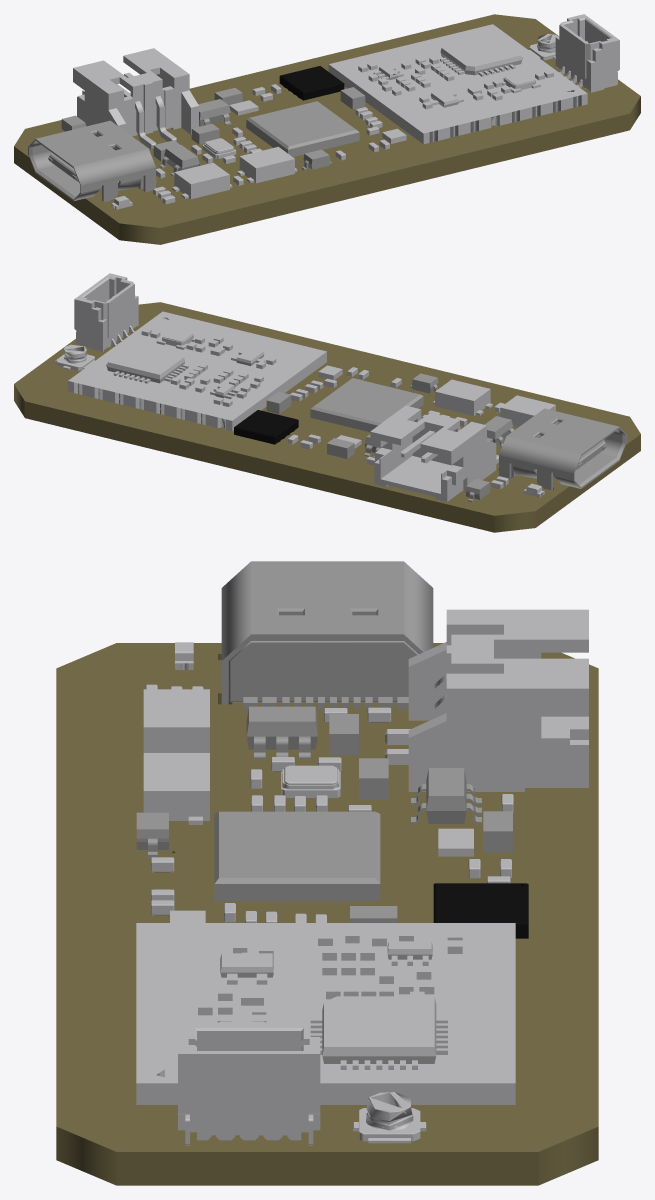
The model's file is ada-5712.glb.
The picture shows the model from 3 angles, top to bottom: view 1: azimuth 30°, elevation 25°; view 2: azimuth 150°, elevation 25°; view 3: azimuth 270°, elevation 25°; orthographic projection. The views are drawn at different scales.
Parts seen in each view (by area): view 1: 0.5833333333333334_0.5833333333333334_0.5833333333333334_0.8, 0.16666666666666666_0.16666666666666666_0.08333333333333333_, 0.3333333333333333_0.3333333333333333_0.3333333333333333_0, 0_0_0_0; view 2: 0.5833333333333334_0.5833333333333334_0.5833333333333334_0.8, 0.16666666666666666_0.16666666666666666_0.08333333333333333_, 0.3333333333333333_0.3333333333333333_0.3333333333333333_0, 0_0_0_0; view 3: 0.16666666666666666_0.16666666666666666_0.08333333333333333_, 0.5833333333333334_0.5833333333333334_0.5833333333333334_0.8, 0.3333333333333333_0.3333333333333333_0.3333333333333333_0, 0_0_0_0.
Part boxes in pixels (bbox=[...]): 0.5833333333333334_0.5833333333333334_0.5833333333333334_0.8: bbox=[50, 14, 619, 209]; 0.16666666666666666_0.16666666666666666_0.08333333333333333_: bbox=[14, 14, 640, 244]; 0.3333333333333333_0.3333333333333333_0.3333333333333333_0: bbox=[28, 87, 365, 201]; 0_0_0_0: bbox=[279, 66, 344, 100]; 0.5833333333333334_0.5833333333333334_0.5833333333333334_0.8: bbox=[54, 273, 604, 501]; 0.16666666666666666_0.16666666666666666_0.08333333333333333_: bbox=[14, 302, 640, 532]; 0.3333333333333333_0.3333333333333333_0.3333333333333333_0: bbox=[266, 373, 626, 502]; 0_0_0_0: bbox=[234, 410, 298, 444]; 0.16666666666666666_0.16666666666666666_0.08333333333333333_: bbox=[56, 643, 598, 1185]; 0.5833333333333334_0.5833333333333334_0.5833333333333334_0.8: bbox=[136, 609, 588, 1145]; 0.3333333333333333_0.3333333333333333_0.3333333333333333_0: bbox=[136, 561, 512, 922]; 0_0_0_0: bbox=[433, 883, 528, 938].
Size of the model in its own units: 5.2 by 0.637 by 2.29.
